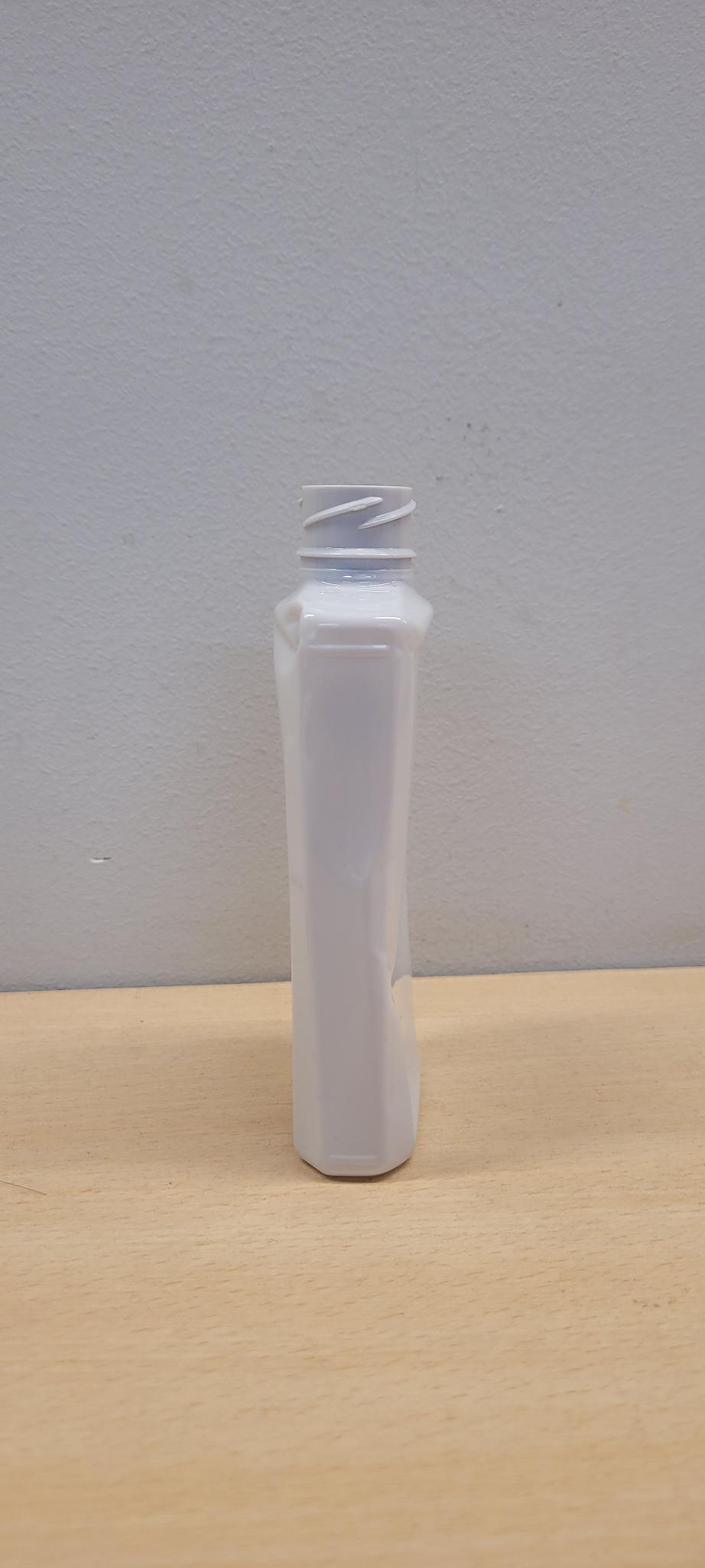bottle: (274, 483, 432, 1178)
